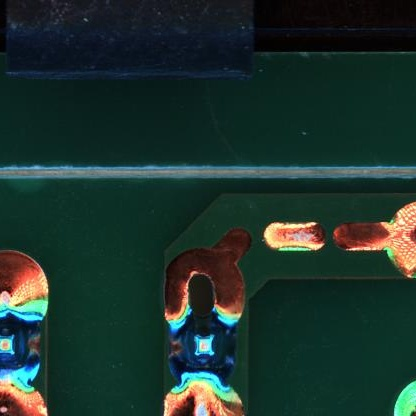spot: (166, 314, 241, 381)
